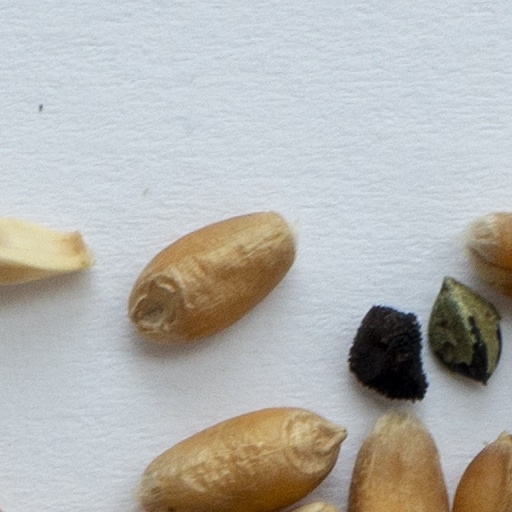Agrostemma-poly: (350, 305, 428, 405)
Fallopia-Convolvulus-poly: (430, 278, 499, 383)
